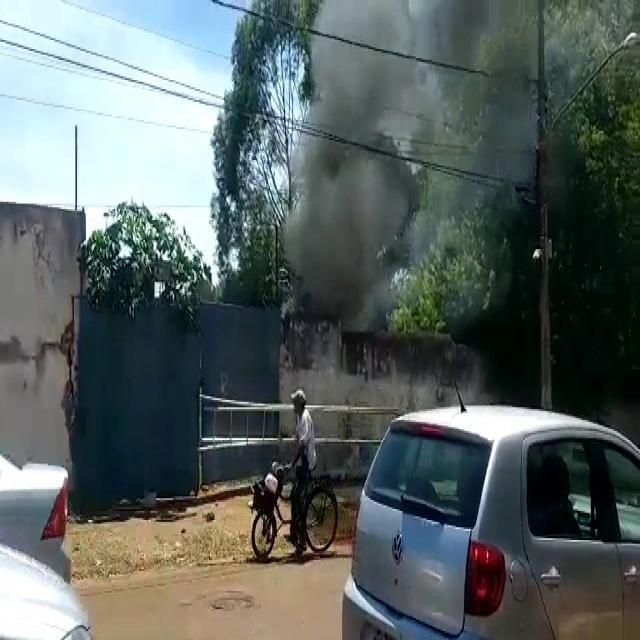Smoke: (273, 0, 589, 304), (0, 208, 81, 346)
